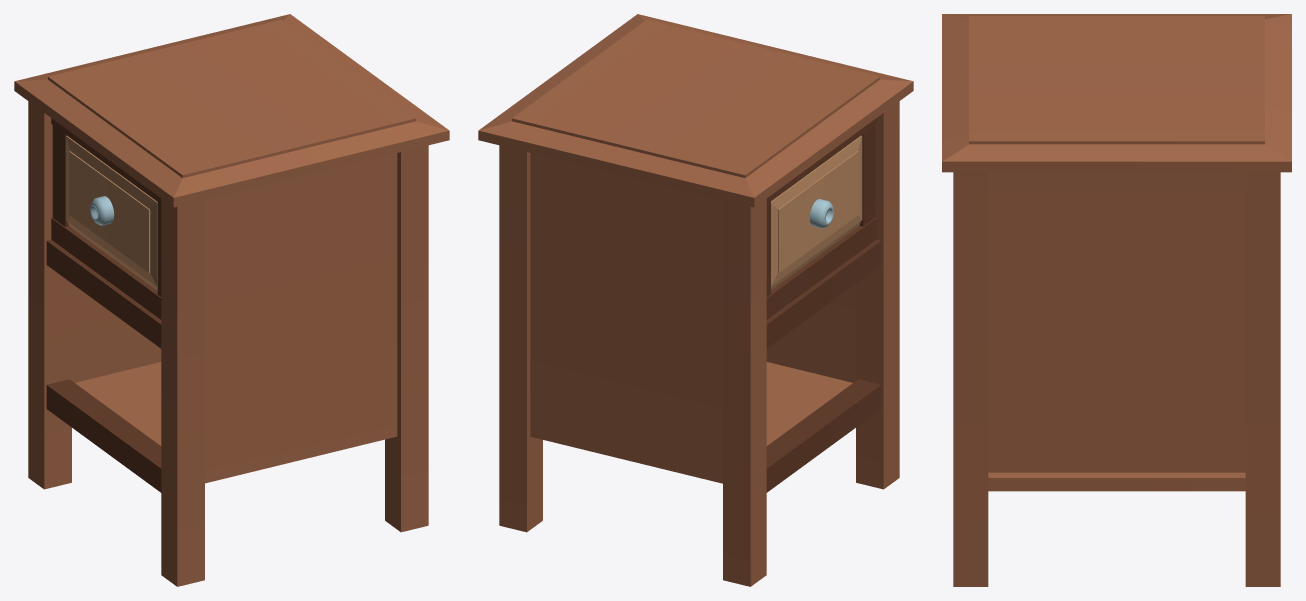
File: Drawr.fbx
3 views of the same model, side by side, from view 1: azimuth 30°, elevation 25°; view 2: azimuth 150°, elevation 25°; view 3: azimuth 270°, elevation 25° (orthographic). The views are drawn at different scales.
Visible parts, largest first — view 1: drawr; view 2: drawr; view 3: drawr.
Part boxes in pixels (left/top/right/bottom): drawr: left=14, top=14, right=449, bottom=586; drawr: left=478, top=14, right=913, bottom=586; drawr: left=942, top=14, right=1291, bottom=586.
Size of the model in its own units: 158 by 221 by 158.
Materials: 1 (1 with a texture image).
